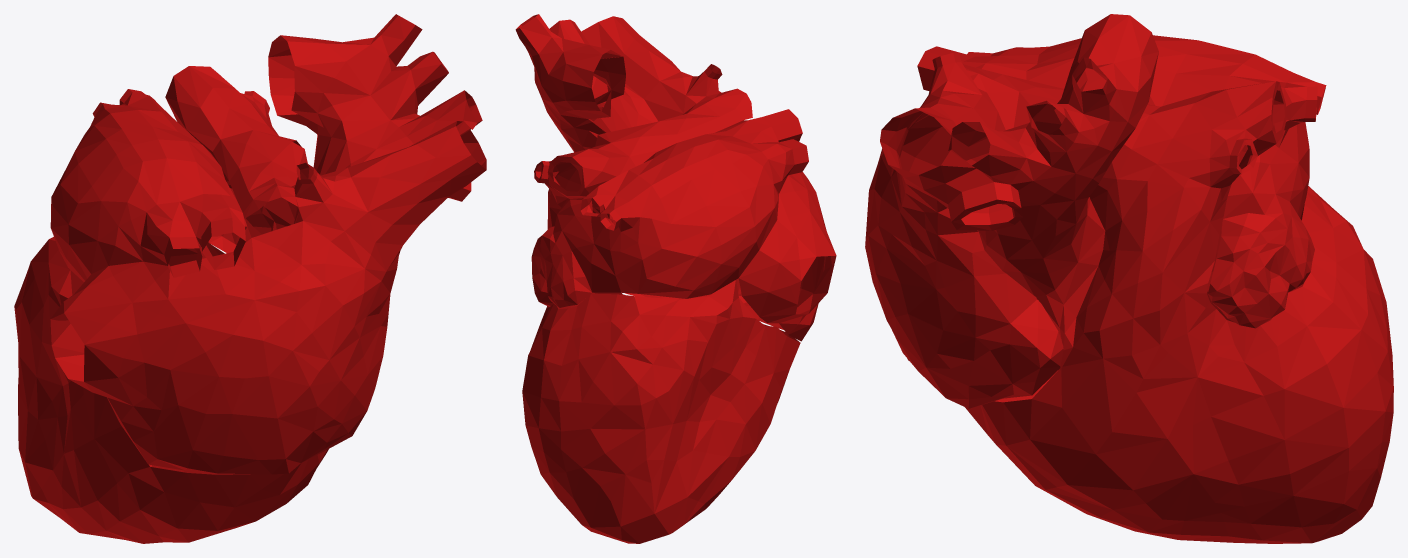
The model's file is Heart.fbx.
The picture shows the model from 3 angles, left to right: view 1: azimuth 30°, elevation 25°; view 2: azimuth 150°, elevation 25°; view 3: azimuth 270°, elevation 25°; orthographic projection. The views are drawn at different scales.
Visible parts, largest first — view 1: coeur; view 2: coeur; view 3: coeur.
Part boxes in pixels (left/top/right/bottom): coeur: left=14, top=14, right=486, bottom=543; coeur: left=515, top=14, right=836, bottom=543; coeur: left=865, top=14, right=1393, bottom=543.
Size of the model in its own units: 220 by 291 by 236.
